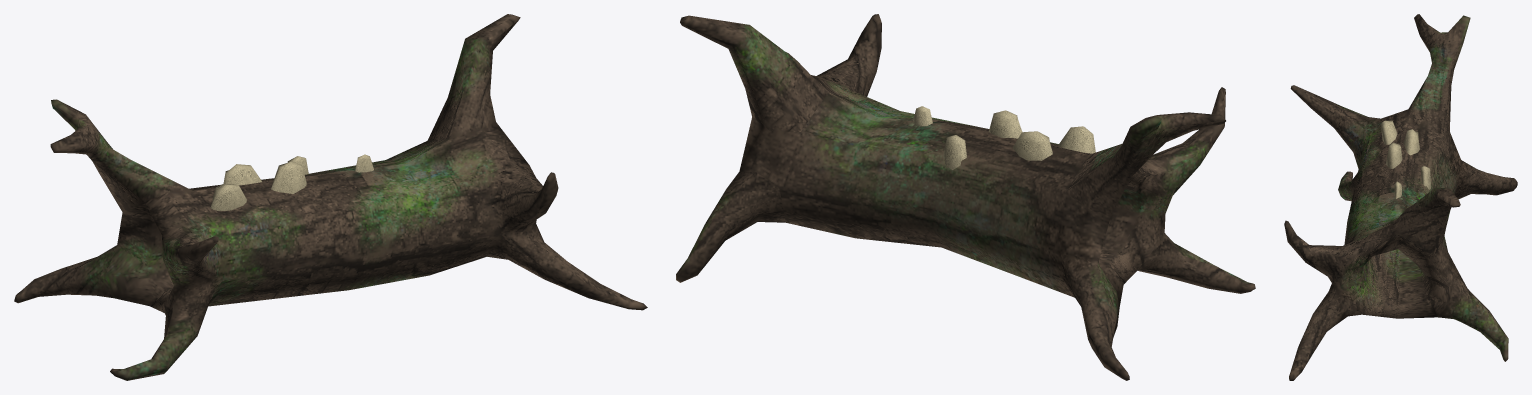
The model's file is Rotting Log - LOD 1.fbx.
3 renders of one model, left to right at view 1: azimuth 30°, elevation 25°; view 2: azimuth 150°, elevation 25°; view 3: azimuth 270°, elevation 25°, orthographic. The views are drawn at different scales.
Parts seen in each view (by area): view 1: Rotting Log - LOD 1; view 2: Rotting Log - LOD 1; view 3: Rotting Log - LOD 1.
Boxes of the visible parts, bbox=[...] form: Rotting Log - LOD 1: bbox=[14, 14, 647, 380]; Rotting Log - LOD 1: bbox=[676, 14, 1255, 380]; Rotting Log - LOD 1: bbox=[1284, 14, 1517, 380].
Bounding box in the file's own units: 4.26 × 1.92 × 2.18.
